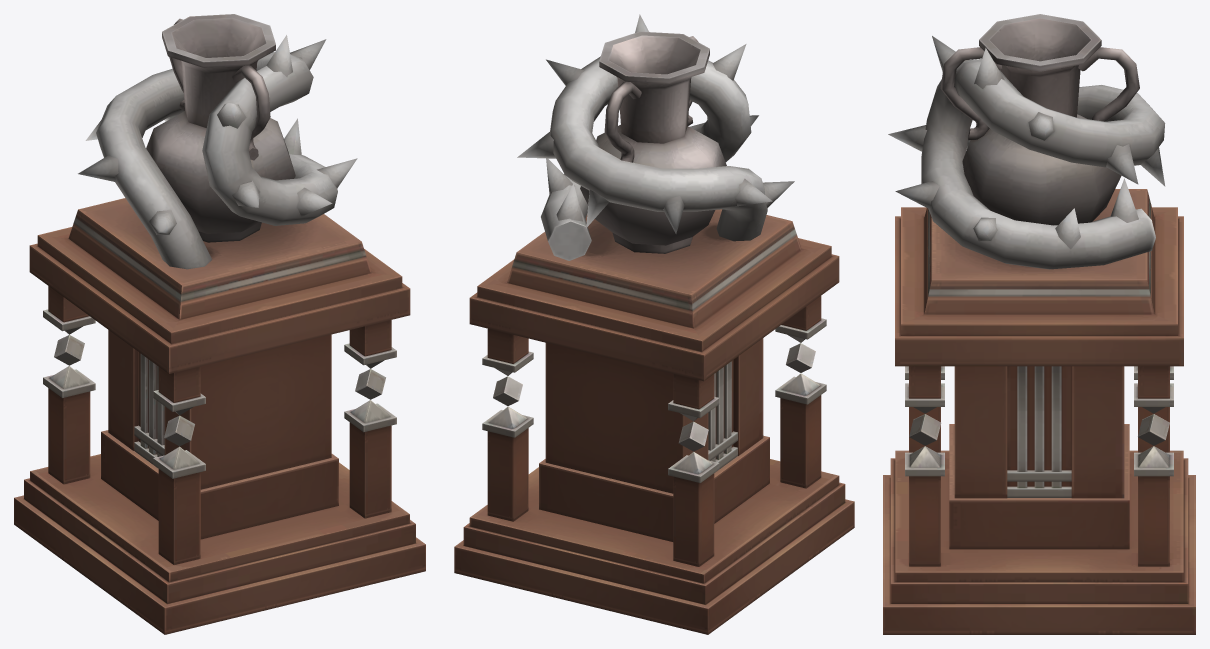
Rendered from my_wildhunt_01_displaystand_02.glb.
The picture shows the model from 3 angles, left to right: view 1: azimuth 30°, elevation 25°; view 2: azimuth 150°, elevation 25°; view 3: azimuth 270°, elevation 25°; orthographic projection. The views are drawn at different scales.
Parts seen in each view (by area): view 1: my_wildhunt_01_displaystand_02; view 2: my_wildhunt_01_displaystand_02; view 3: my_wildhunt_01_displaystand_02.
Part boxes in pixels (<box>): my_wildhunt_01_displaystand_02: <box>14,14,425,634</box>; my_wildhunt_01_displaystand_02: <box>454,14,854,634</box>; my_wildhunt_01_displaystand_02: <box>883,14,1195,634</box>.
Bounding box in the file's own units: 0.00479 × 0.00911 × 0.00477.
1 material, 1 textured.
